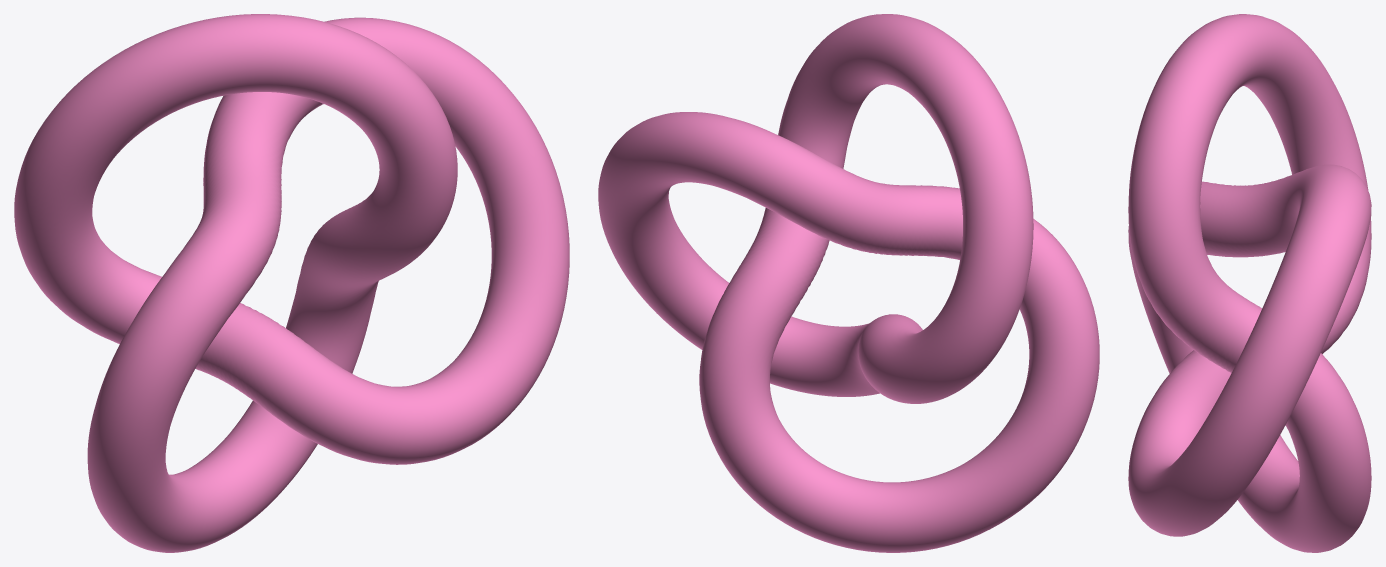
File: ribbon-knot.glb
3 renders of one model, left to right at view 1: azimuth 30°, elevation 25°; view 2: azimuth 150°, elevation 25°; view 3: azimuth 270°, elevation 25°, orthographic. The views are drawn at different scales.
Parts seen in each view (by area): view 1: RibbonKnot; view 2: RibbonKnot; view 3: RibbonKnot.
Boxes of the visible parts, bbox=[...] form: RibbonKnot: bbox=[14, 14, 569, 552]; RibbonKnot: bbox=[598, 14, 1099, 552]; RibbonKnot: bbox=[1128, 14, 1371, 552].
Size of the model in its own units: 6.2 by 6.49 by 2.84.
